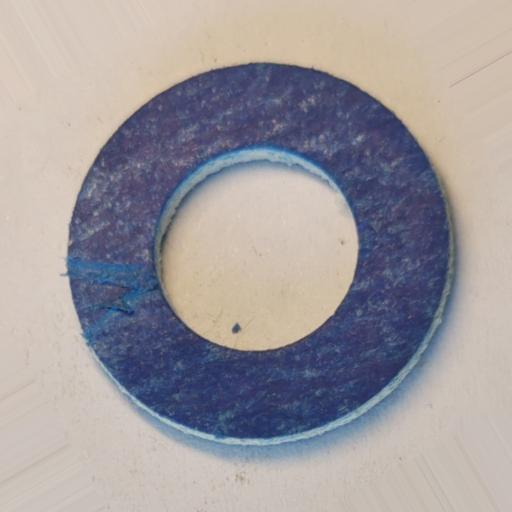defect: (68, 255, 161, 347)
